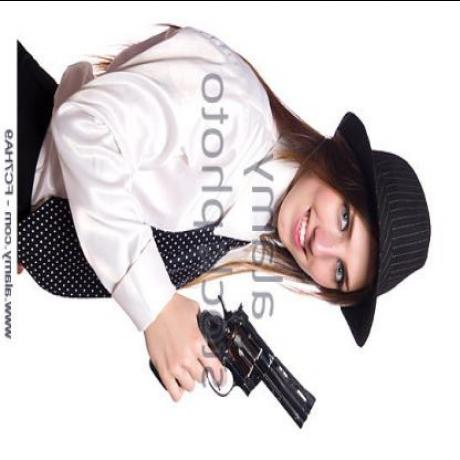1: (16, 23, 435, 401)
weapon: (112, 288, 330, 436)
